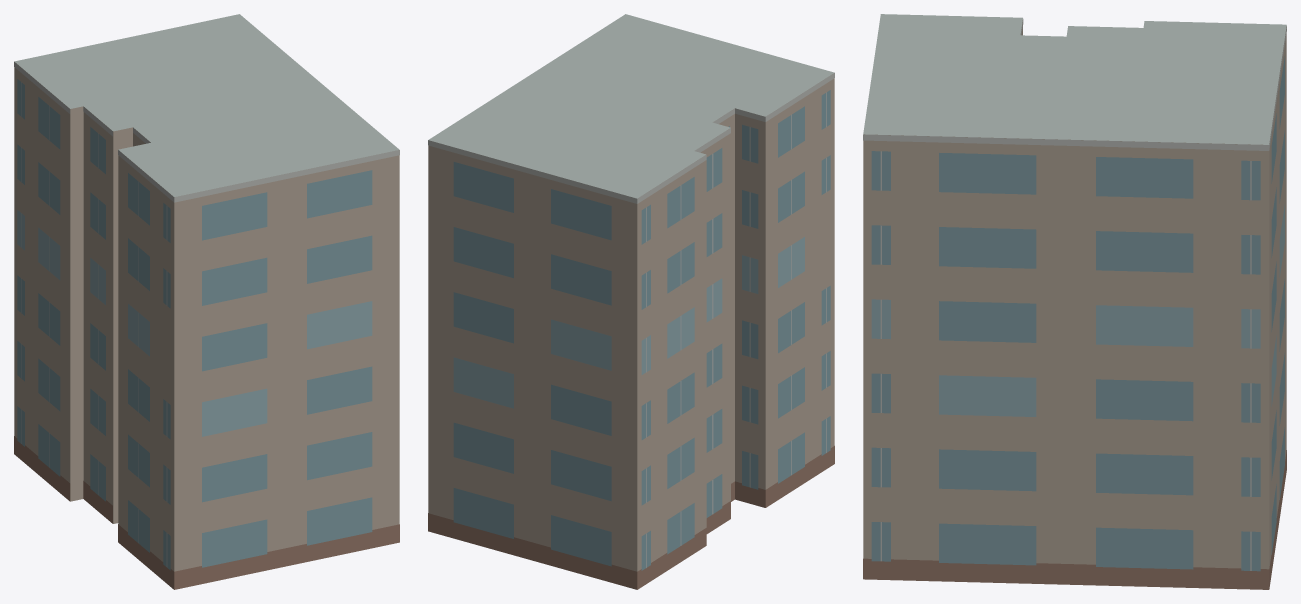
File: survey-upis-32658013.glb
3 views of the same model, side by side, from view 1: azimuth 30°, elevation 25°; view 2: azimuth 150°, elevation 25°; view 3: azimuth 270°, elevation 25° (orthographic). The views are drawn at different scales.
Visible parts, largest first — view 1: survey-upis-32658013.tmp; view 2: survey-upis-32658013.tmp; view 3: survey-upis-32658013.tmp.
Part boxes in pixels (x1,y1,x2,y2): survey-upis-32658013.tmp: [14, 14, 399, 589]; survey-upis-32658013.tmp: [428, 14, 834, 589]; survey-upis-32658013.tmp: [863, 14, 1286, 589].
Size of the model in its own units: 11.18 by 17.7 by 15.29.
